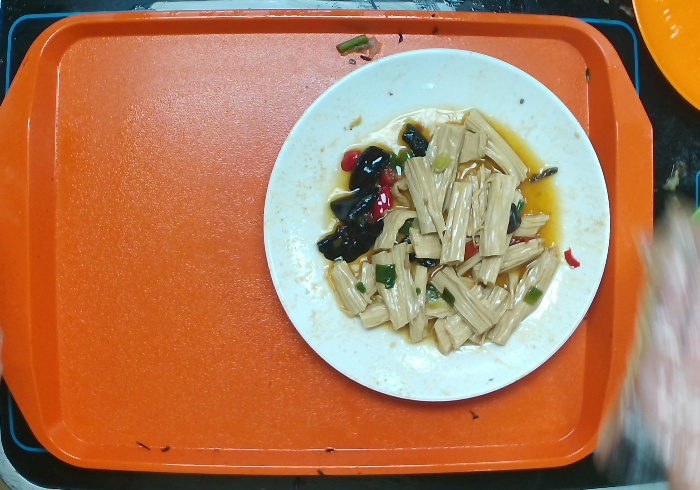HZYJPL-Bai_Se_Yuan_Pan: (251, 39, 618, 412)
